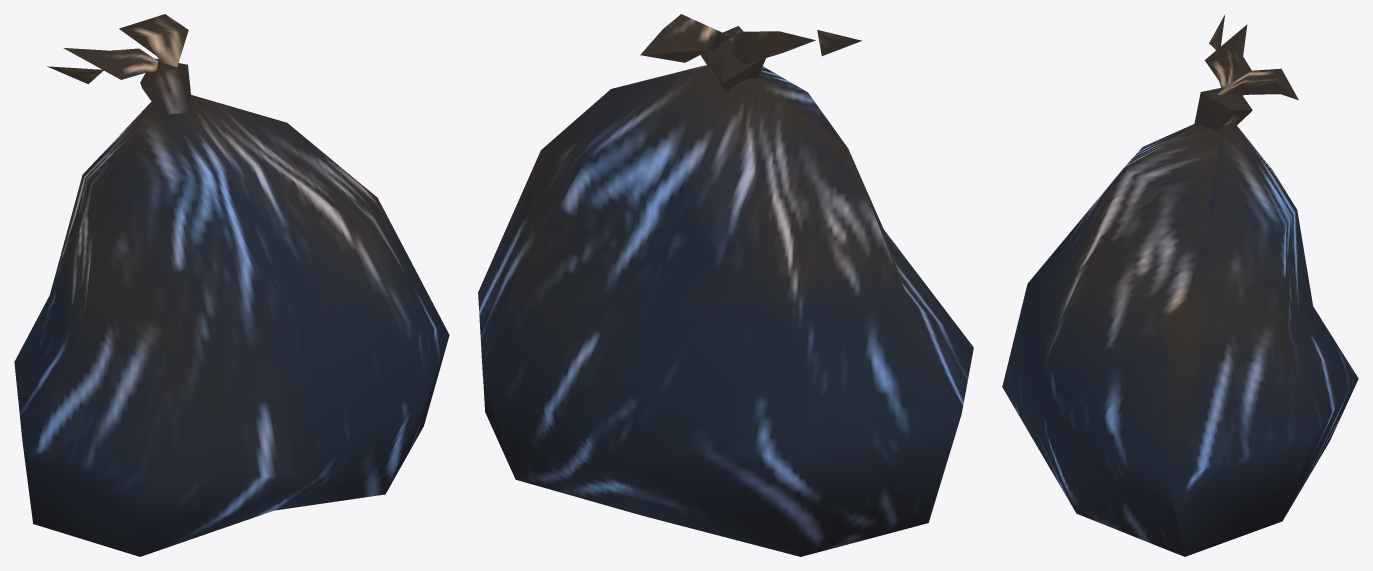
File: bl0104-color.glb
The picture shows the model from 3 angles, left to right: view 1: azimuth 30°, elevation 25°; view 2: azimuth 150°, elevation 25°; view 3: azimuth 270°, elevation 25°; orthographic projection. The views are drawn at different scales.
Parts seen in each view (by area): view 1: _M00_D0_HP0005_SH; view 2: _M00_D0_HP0005_SH, _M00_D9_HP0001_AL00_EI01_DE04_SH; view 3: _M00_D0_HP0005_SH.
Part boxes in pixels (x1,y1,x2,y2): _M00_D0_HP0005_SH: (14,14,449,556); _M00_D0_HP0005_SH: (478,14,973,556); _M00_D9_HP0001_AL00_EI01_DE04_SH: (817,30,861,55); _M00_D0_HP0005_SH: (1002,24,1358,556).
Size of the model in its own units: 1.09 by 1.12 by 0.874.
1 material, 1 textured.
